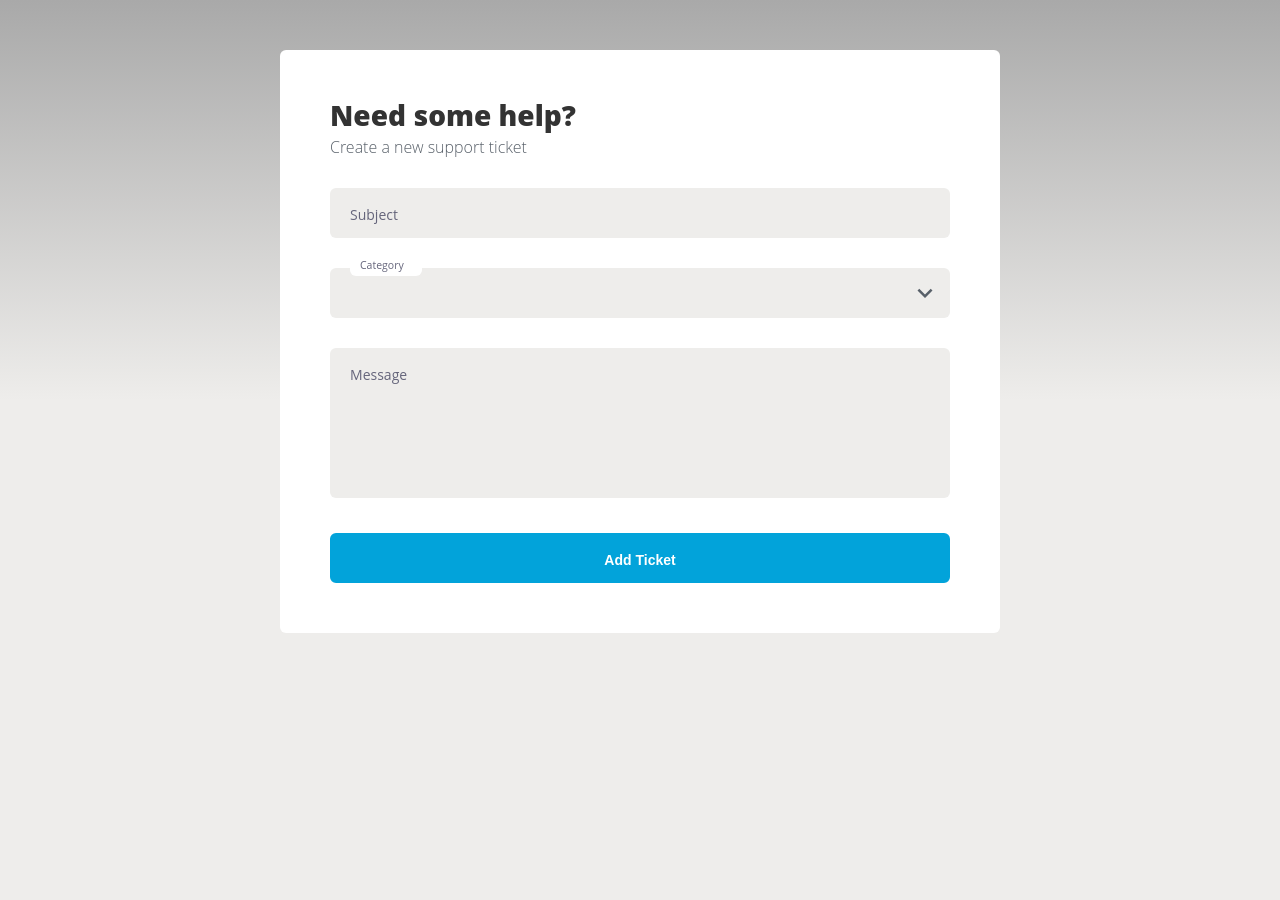
Test: NewTicket › should display form validation errors
Click the button "Add Ticket": (640, 558) x1=330 y1=533 x2=950 y2=583
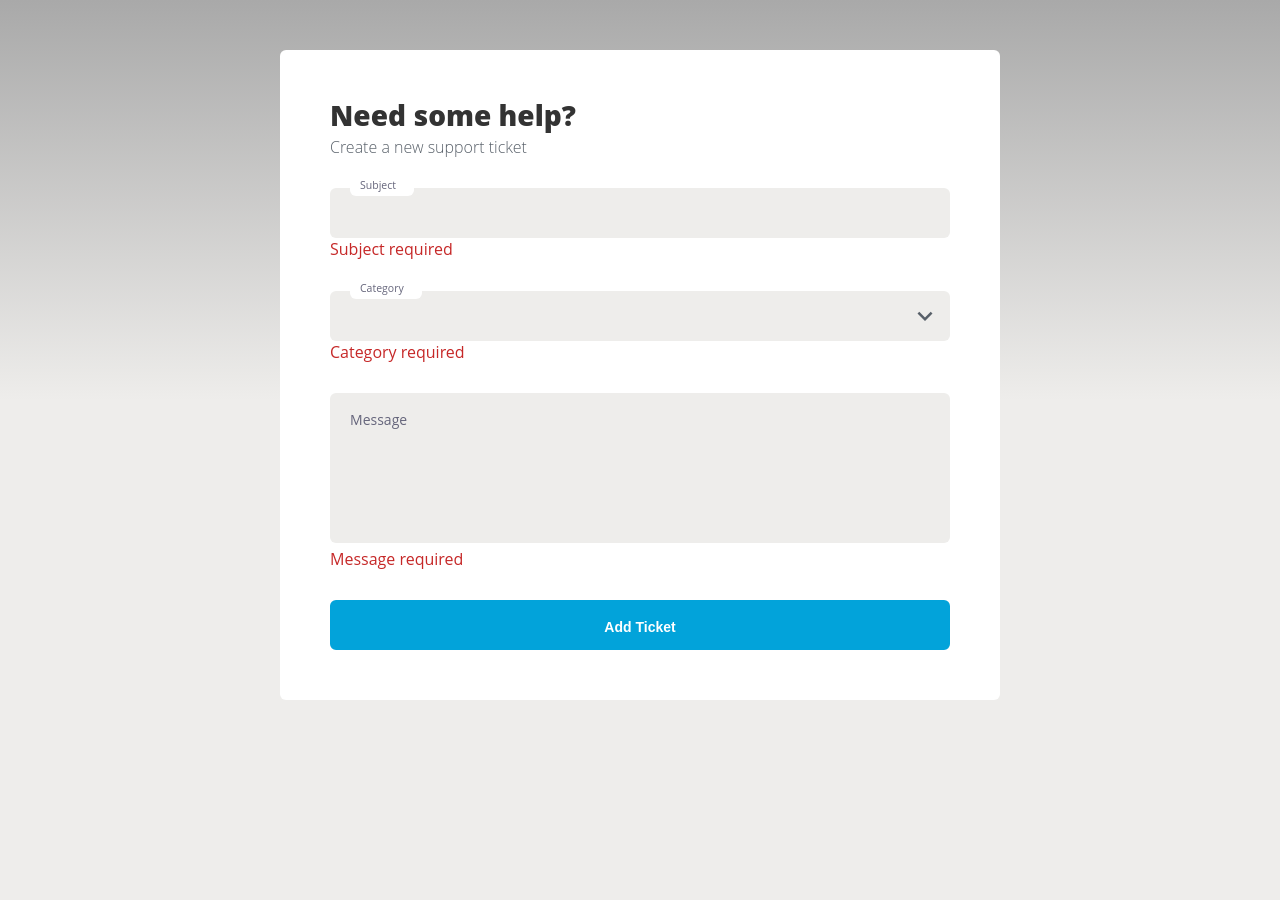
Expected: the text "Subject required" is shown, x1=330 y1=238 x2=453 y2=260
Expected: the text "Category required" is shown, x1=330 y1=341 x2=465 y2=363
Expected: the text "Message required" is shown, x1=330 y1=548 x2=463 y2=570
